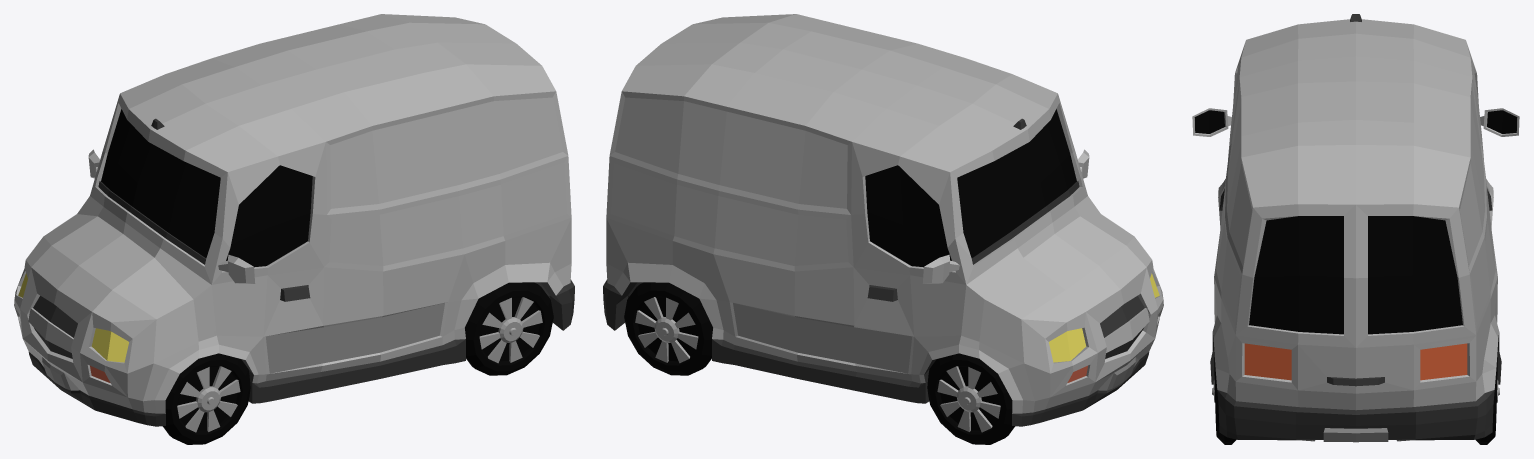
The model's file is van.glb.
3 views of the same model, side by side, from view 1: azimuth 30°, elevation 25°; view 2: azimuth 150°, elevation 25°; view 3: azimuth 270°, elevation 25° (orthographic).
Parts seen in each view (by area): view 1: Cube, wheel_back_left, wheel_front_left, mirrors; view 2: Cube, wheel_front_right.001, wheel_front_right, mirrors; view 3: Cube, mirrors, wheel_back_left, wheel_front_right.001.
Boxes of the visible parts, box(x1,y1,x2,y2) form: Cube: box(14, 14, 574, 426); wheel_back_left: box(465, 282, 553, 375); wheel_front_left: box(162, 353, 250, 444); mirrors: box(88, 149, 255, 283); Cube: box(603, 14, 1163, 426); wheel_front_right.001: box(624, 282, 712, 375); wheel_front_right: box(927, 353, 1015, 444); mirrors: box(922, 149, 1089, 283); Cube: box(1210, 14, 1501, 442); mirrors: box(1192, 108, 1519, 136); wheel_back_left: box(1212, 352, 1236, 444); wheel_front_right.001: box(1475, 352, 1499, 444).
Size of the model in its own units: 5.68 by 3.18 by 3.18.
